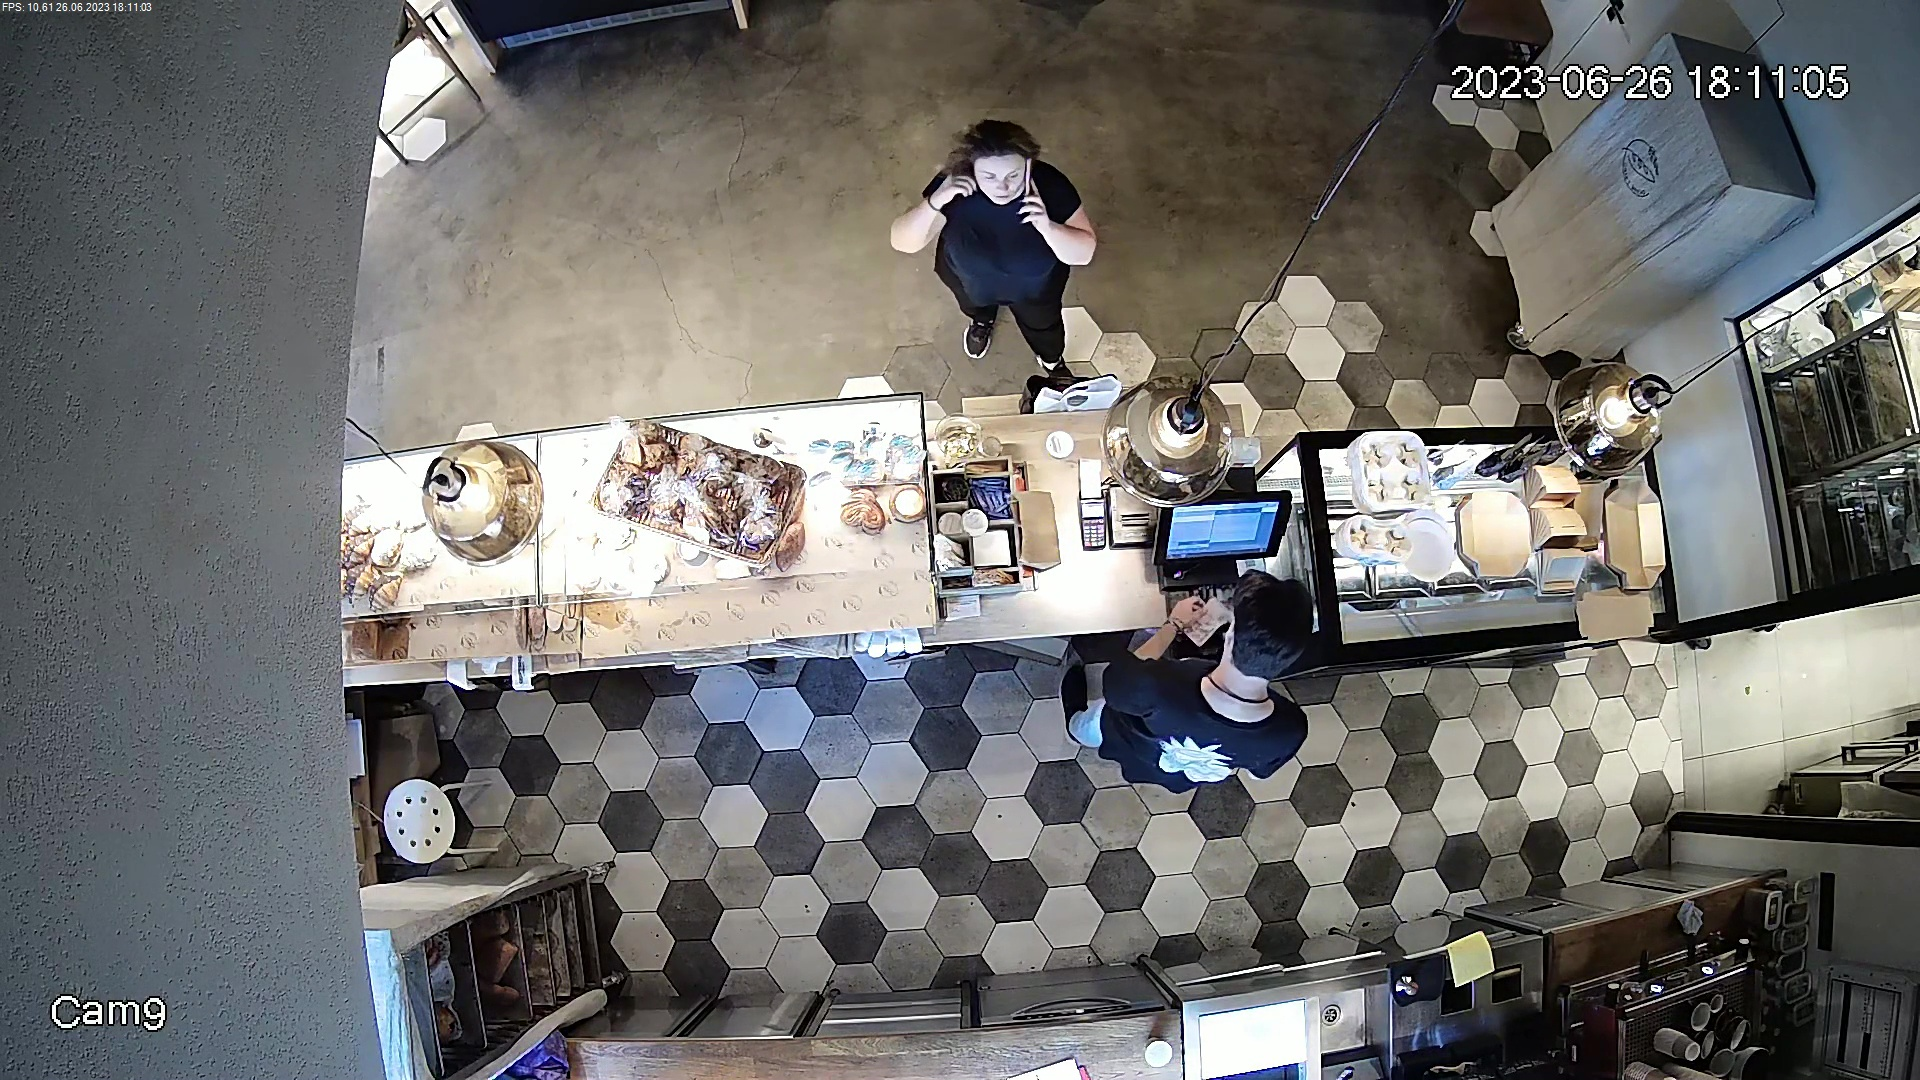coffee: (1041, 424, 1076, 461)
pack: (1008, 488, 1065, 572)
person: (874, 108, 1121, 392)
